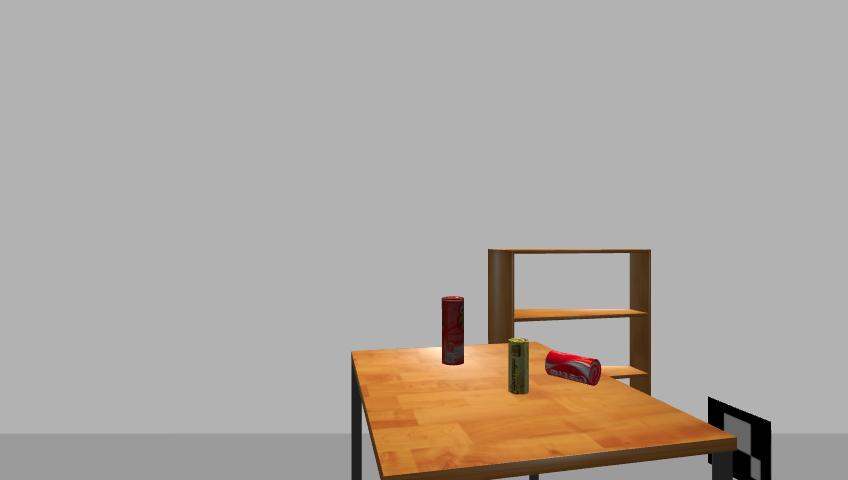aruco marker: (701, 396, 777, 479)
biscuits pack: (507, 338, 529, 396)
bookshelf: (482, 245, 659, 427)
coke can: (543, 350, 604, 388)
dinner table: (343, 344, 745, 479)
pringles can: (438, 295, 467, 367)
